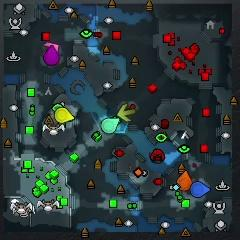p1: (190, 181, 211, 196)
p2: (100, 118, 120, 135)
p3: (43, 46, 61, 65)
p4: (55, 108, 76, 122)
p5: (175, 171, 192, 191)
x1: (43, 42, 61, 52)
x2: (118, 104, 137, 122)
